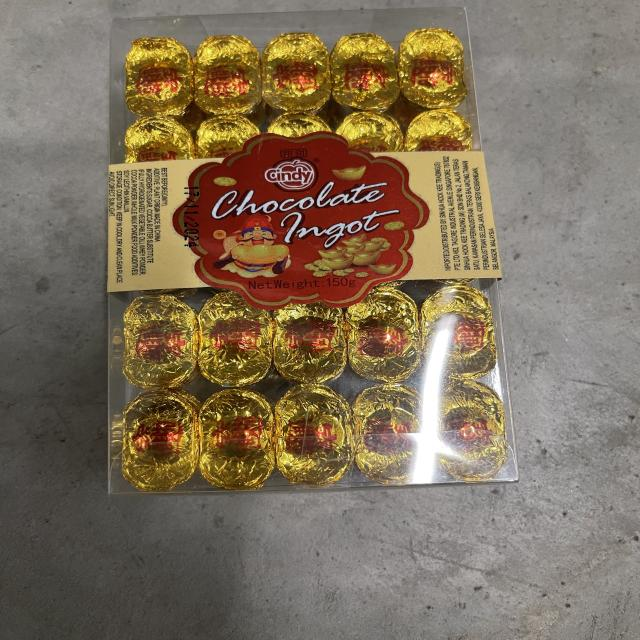object_name: (104, 17, 510, 494)
